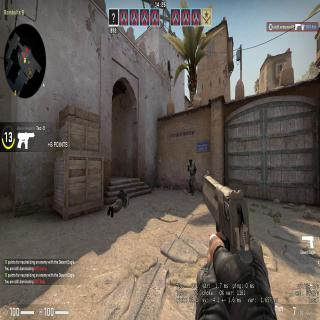CT-Body: (186, 158, 197, 191)
CT-Head: (188, 158, 192, 164)
